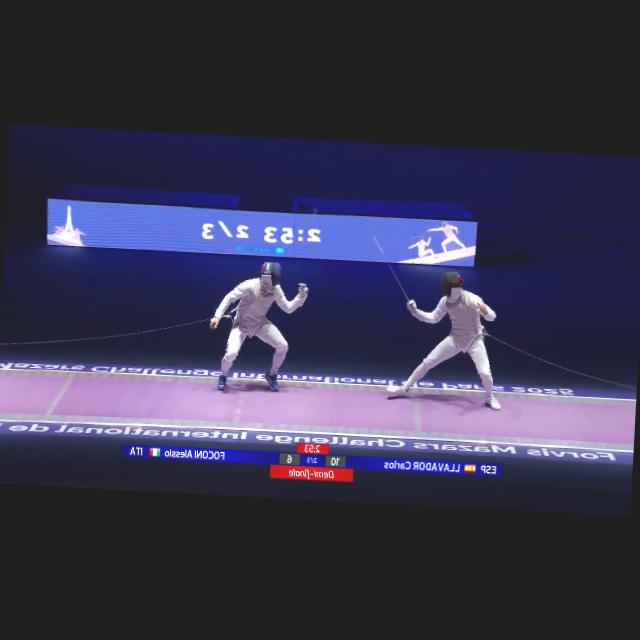blade: (367, 232, 416, 307)
